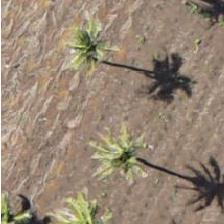coconut_tree: (79, 113, 169, 203), (42, 4, 132, 94), (0, 169, 51, 223)
